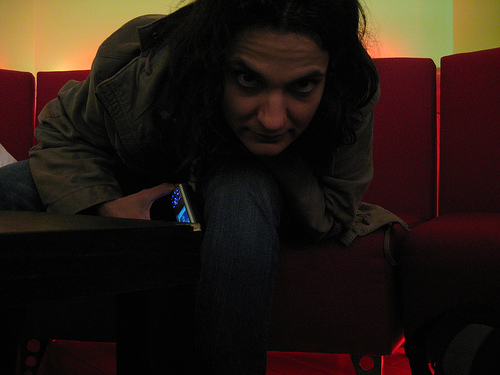without_mask: (211, 24, 330, 159)
